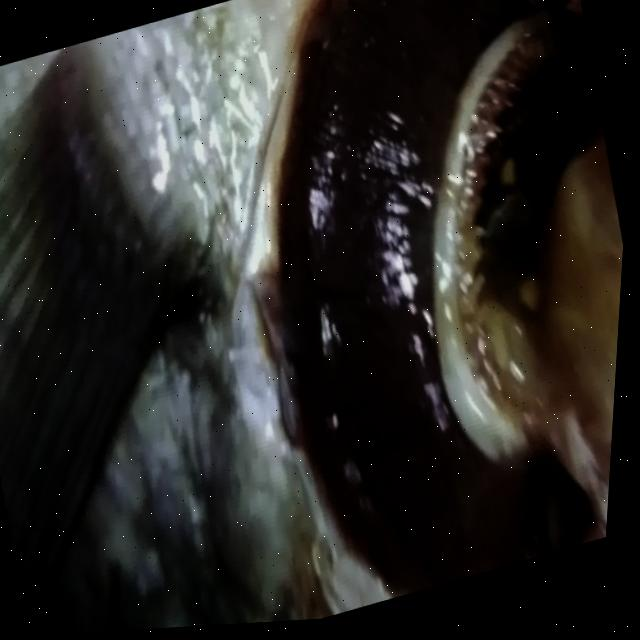Non-Fresh: (150, 0, 640, 612)
